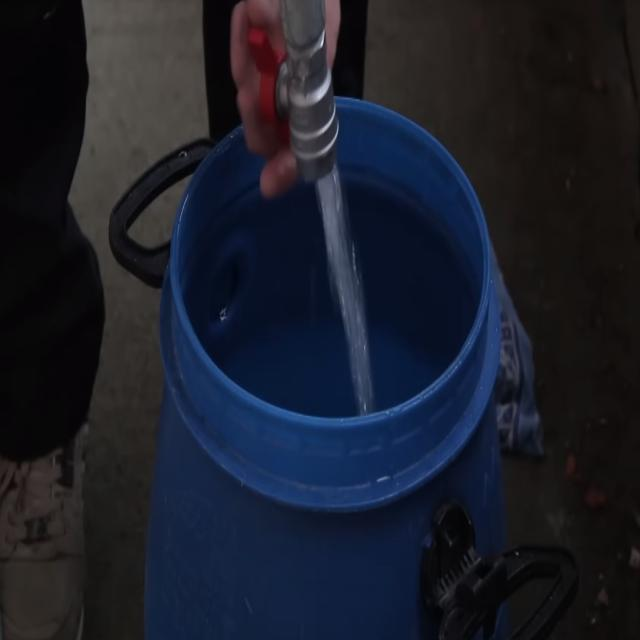leak: (315, 166, 374, 415)
